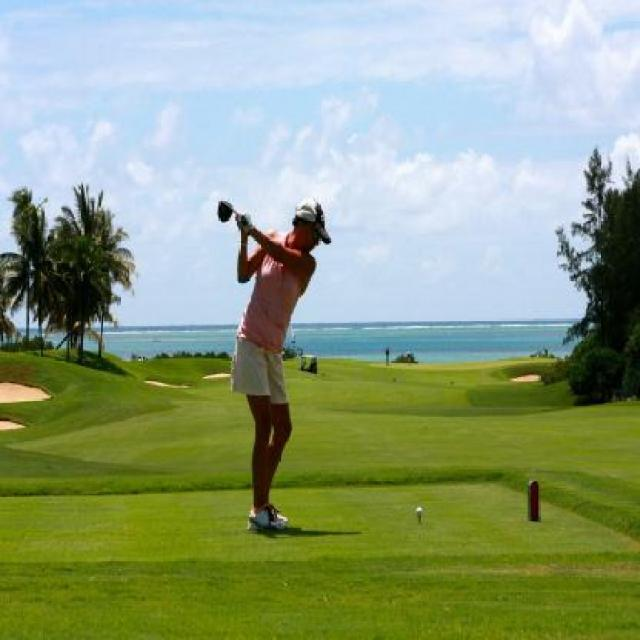club head: (217, 199, 234, 224)
